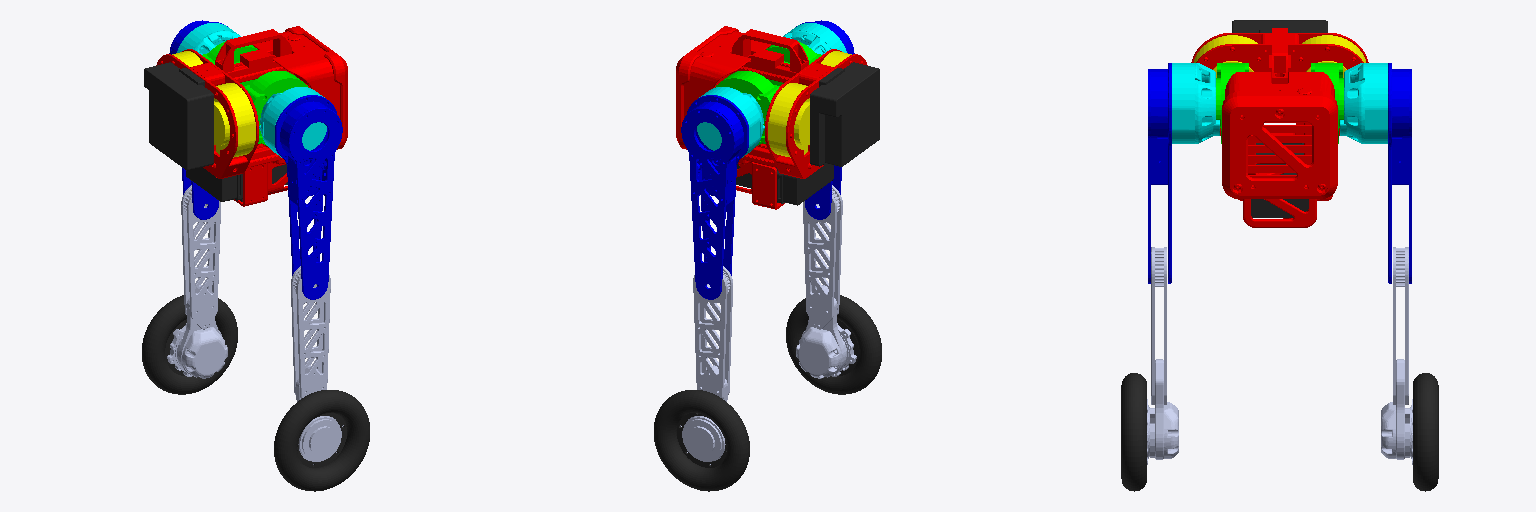
URDF robot description (bi_urdf):
<?xml version="1.0" encoding="utf-8"?>
<!-- This URDF was automatically created by SolidWorks to URDF Exporter! Originally created by [author] ([email redacted]) 
     Commit Version: 1.6.0-4-g7f85cfe  Build Version: 1.6.7995.38578
     For more information, please see http://wiki.ros.org/sw_urdf_exporter -->
<robot
  name="bi_urdf">
  <link name="dummy_link"/>  
  <joint name="dummy_joint" type="floating">
    <parent link="dummy_link"/>
    <child link="base_link"/>
    <origin xyz="0 0 0" rpy="0 0 0"/>
  </joint>
  <link
    name="base_link">
    <inertial>
      <origin
        xyz="0.01096 0.00049 -0.08447"
        rpy="0 0 0" />
      <mass
        value="1.7" />
      <inertia
        ixx="0.01982751490"
        ixy="-0.00000294181"
        ixz="-0.00095254067"
        iyy="0.02421281189"
        iyz="-0.00012740135"
        izz="0.01088542480" />
    </inertial>
    <visual>
      <origin
        xyz="0 0 0"
        rpy="0 0 0" />
      <geometry>
        <mesh
          filename="package://bi_urdf/meshes/base_link.STL" />
      </geometry>
      <material
        name="">
        <color
          rgba="1 0 0 1" />
      </material>
    </visual>
    <collision>
      <origin
        xyz="0 0 0"
        rpy="0 0 0" />
      <geometry>
        <mesh
          filename="package://bi_urdf/meshes/base_link.STL" />
      </geometry>
    </collision>
  </link>
  <link
    name="orin_Link">
    <inertial>
      <origin
        xyz="-0.02408 0.02189 0.05730"
        rpy="0 0 0" />
      <mass
        value="0.3" />
      <inertia
        ixx="0.00169870356"
        ixy="-0.00015111217"
        ixz="-0.00041542219"
        iyy="0.00147844807"
        iyz="0.00038916625"
        izz="0.00065122384" />
    </inertial>
    <visual>
      <origin
        xyz="0 0 0"
        rpy="0 0 0" />
      <geometry>
        <mesh
          filename="package://bi_urdf/meshes/orin_Link.STL" />
      </geometry>
      <material
        name="">
        <color
          rgba="0.2 0.2 0.2 1" />
      </material>
    </visual>
    <collision>
      <origin
        xyz="0 0 0"
        rpy="0 0 0" />
      <geometry>
        <mesh
          filename="package://bi_urdf/meshes/orin_Link.STL" />
      </geometry>
    </collision>
  </link>
  <joint
    name="orin"
    type="fixed">
    <origin
      xyz="-0.0918148109842786 -0.0249000000000198 -0.117725"
      rpy="0 0 0" />
    <parent
      link="base_link" />
    <child
      link="orin_Link" />
    <axis
      xyz="1 0 0" />
  </joint>
  <link
    name="bat_Link">
    <inertial>
      <origin
        xyz="0.02860 0.00224 0.02251"
        rpy="0 0 0" />
      <mass
        value="0.672" />
      <inertia
        ixx="0.00085048156"
        ixy="-0.00001152336"
        ixz="0.00043231469"
        iyy="0.00203345215"
        iyz="0.00003388068"
        izz="0.00199728964"/>
    </inertial>
    <visual>
      <origin
        xyz="0 0 0"
        rpy="0 0 0" />
      <geometry>
        <mesh
          filename="package://bi_urdf/meshes/bat_Link.STL" />
      </geometry>
      <material
        name="">
        <color
          rgba="0.2 0.2 0.2 1" />
      </material>
    </visual>
    <collision>
      <origin
        xyz="0 0 0"
        rpy="0 0 0" />
      <geometry>
        <mesh
          filename="package://bi_urdf/meshes/bat_Link.STL" />
      </geometry>
    </collision>
  </link>
  <joint
    name="bat"
    type="fixed">
    <origin
      xyz="-0.0416148109842793 0 -0.179925"
      rpy="0 0 0" />
    <parent
      link="base_link" />
    <child
      link="bat_Link" />
    <axis
      xyz="0 1 0" />
  </joint>
  <link
    name="r_Link">
    <inertial>
      <origin
        xyz="-0.02073 0.00000 0.00000"
        rpy="0 0 0" />
      <mass
        value="0.536" />
      <inertia
        ixx="0.00055434936"
        ixy="-0.00000001582"
        ixz="0.00000000503"
        iyy="0.00056855215"
        iyz="-0.00000000650"
        izz="0.00055851307"/>
    </inertial>
    <visual>
      <origin
        xyz="0 0 0"
        rpy="0 0 0" />
      <geometry>
        <mesh
          filename="package://bi_urdf/meshes/r_Link.STL" />
      </geometry>
      <material
        name="">
        <color
          rgba="1 1 0 1" />
      </material>
    </visual>
    <collision>
      <origin
        xyz="0 0 0"
        rpy="0 0 0" />
      <geometry>
        <mesh
          filename="package://bi_urdf/meshes/r_Link.STL" />
      </geometry>
    </collision>
  </link>
  <joint
    name="R_hip_fix"
    type="fixed">
    <origin
      xyz="-0.0535148109842786 -0.0562500000000304 -0.0547752717334899"
      rpy="0 0 0" />
    <parent
      link="base_link" />
    <child
      link="r_Link" />
    <axis
      xyz="1 0 0" />
  </joint>
  <link
    name="rr_Link">
    <inertial>
      <origin
        xyz="0.04914 0.00083 0.00000"
        rpy="0 0 0" />
      <mass
        value="0.573" />
      <inertia
        ixx="0.00035721873"
        ixy="0.00002268056"
        ixz="-0.00000005422"
        iyy="0.00204430103"
        iyz="-0.00000000125"
        izz="0.00181053200" />
    </inertial>
    <visual>
      <origin
        xyz="0 0 0"
        rpy="0 0 0" />
      <geometry>
        <mesh
          filename="package://bi_urdf/meshes/rr_Link.STL" />
      </geometry>
      <material
        name="">
        <color
          rgba="0 1 0 1" />
      </material>
    </visual>
    <collision>
      <origin
        xyz="0 0 0"
        rpy="0 0 0" />
      <geometry>
        <mesh
          filename="package://bi_urdf/meshes/rr_Link.STL" />
      </geometry>
    </collision>
  </link>
  <joint
    name="R_base2hip"
    type="revolute">
    <origin
      xyz="0 0 0"
      rpy="0 0 0" />
    <parent
      link="r_Link" />
    <child
      link="rr_Link" />
    <axis
      xyz="1 0 0" />
    <limit
      lower="0.0"
      upper="0.0"
      effort="0.0"
      velocity="0.0" />
  </joint>
  <link
    name="rrr_Link">
    <inertial>
      <origin
        xyz="0.00003 -0.03730 0.00006"
        rpy="0 0 0" />
      <mass
        value="0.614" />
      <inertia
        ixx="0.00131289621"
        ixy="-0.00000028386"
        ixz="-0.00000248157"
        iyy="0.00065691561"
        iyz="-0.00000428299"
        izz="0.00133828329"/>
    </inertial>
    <visual>
      <origin
        xyz="0 0 0"
        rpy="0 0 0" />
      <geometry>
        <mesh
          filename="package://bi_urdf/meshes/rrr_Link.STL" />
      </geometry>
      <material
        name="">
        <color
          rgba="0 1 1 1" />
      </material>
    </visual>
    <collision>
      <origin
        xyz="0 0 0"
        rpy="0 0 0" />
      <geometry>
        <mesh
          filename="package://bi_urdf/meshes/rrr_Link.STL" />
      </geometry>
    </collision>
  </link>
  <joint
    name="R_hip2thigh"
    type="revolute">
    <origin
      xyz="0.0532497748906444 -0.0144424855132765 0"
      rpy="0 0 0" />
    <parent
      link="rr_Link" />
    <child
      link="rrr_Link" />
    <axis
      xyz="0 1 0" />
    <limit
      lower="0.0"
      upper="1.57"
      effort="23.7"
      velocity="30.0" />
  </joint>
  <link
    name="ru_Link">
    <inertial>
      <origin
        xyz="-0.00005 -0.01317 -0.06660"
        rpy="0 0 0" />
      <mass
        value="0.509" />
      <inertia
        ixx="0.00525901222"
        ixy="-0.00000006948"
        ixz="0.00000342732"
        iyy="0.00534816854"
        iyz="0.00045156221"
        izz="0.00037880824" />
    </inertial>
    <visual>
      <origin
        xyz="0 0 0"
        rpy="0 0 0" />
      <geometry>
        <mesh
          filename="package://bi_urdf/meshes/ru_Link.STL" />
      </geometry>
      <material
        name="">
        <color
          rgba="0 0 1 1" />
      </material>
    </visual>
    <collision>
      <origin
        xyz="0 0 0"
        rpy="0 0 0" />
      <geometry>
        <mesh
          filename="package://bi_urdf/meshes/ru_Link.STL" />
      </geometry>
    </collision>
  </link>
  <joint
    name="R_thigh_fix"
    type="fixed">
    <origin
      xyz="0 -0.0577075781855466 0"
      rpy="0 0 0" />
    <parent
      link="rrr_Link" />
    <child
      link="ru_Link" />
    <axis
      xyz="0 1 0" />
  </joint>
  <link
    name="rd_Link">
    <inertial>
      <origin
        xyz="0.00002 -0.02119 -0.15275"
        rpy="0 0 0" />
      <mass
        value="0.555" />
      <inertia
        ixx="0.07912920088"
        ixy="-0.00000017460"
        ixz="-0.00000272469"
        iyy="0.07892173375"
        iyz="0.00455705638"
        izz="0.00047477095" />
    </inertial>
    <visual>
      <origin
        xyz="0 0 0"
        rpy="0 0 0" />
      <geometry>
        <mesh
          filename="package://bi_urdf/meshes/rd_Link.STL" />
      </geometry>
      <material
        name="">
        <color
          rgba="0.792156862745098 0.819607843137255 0.933333333333333 1" />
      </material>
    </visual>
    <collision>
      <origin
        xyz="0 0 0"
        rpy="0 0 0" />
      <geometry>
        <mesh
          filename="package://bi_urdf/meshes/rd_Link.STL" />
      </geometry>
    </collision>
  </link>
  <joint
    name="R_thigh2calf"
    type="revolute">
    <origin
      xyz="0 0 -0.214999999999999"
      rpy="0 0 0" />
    <parent
      link="ru_Link" />
    <child
      link="rd_Link" />
    <axis
      xyz="0 1 0" />
    <limit
      lower="-2.61"
      upper="0.0"
      effort="23.7"
      velocity="30.0" />
  </joint>
  <link
    name="rw_Link">
    <inertial>
      <origin
        xyz="0.00000 -0.01520 0.00000"
        rpy="0 0 0" />
      <mass
        value="0.0" />
      <inertia
        ixx="0.00052305084"
        ixy="0.00000000000"
        ixz="-0.00000035000"
        iyy="0.00088385874"
        iyz="-0.00000014000"
        izz="0.00052304732" />
    </inertial>
    <visual>
      <origin
        xyz="0 0 0"
        rpy="0 0 0" />
      <geometry>
        <mesh
          filename="package://bi_urdf/meshes/rw_Link.STL" />
      </geometry>
      <material
        name="">
        <color
          rgba="0.2 0.2 0.2 1" />
      </material>
    </visual>
    <collision>
      <origin
        xyz="0 0 0"
        rpy="0 0 0" />
      <geometry>
        <mesh
          filename="package://bi_urdf/meshes/rw_Link.STL" />
      </geometry>
    </collision>
  </link>
  <joint
    name="R_calf2wheel"
    type="continuous">
    <origin
      xyz="0 -0.0286806801421281 -0.215"
      rpy="0 0 0" />
    <parent
      link="rd_Link" />
    <child
      link="rw_Link" />
    <axis
      xyz="0 1 0" />
  </joint>
  <link
    name="l_Link">
    <inertial>
      <origin
        xyz="-0.02073 0.00000 0.00000"
        rpy="0 0 0" />
      <mass
        value="0.536" />
      <inertia
        ixx="0.00055434856"
        ixy="0.00000001553"
        ixz="0.00000000306"
        iyy="0.00056854986"
        iyz="0.00000001264"
        izz="0.00055851452" />
    </inertial>
    <visual>
      <origin
        xyz="0 0 0"
        rpy="0 0 0" />
      <geometry>
        <mesh
          filename="package://bi_urdf/meshes/l_Link.STL" />
      </geometry>
      <material
        name="">
        <color
          rgba="1 1 0 1" />
      </material>
    </visual>
    <collision>
      <origin
        xyz="0 0 0"
        rpy="0 0 0" />
      <geometry>
        <mesh
          filename="package://bi_urdf/meshes/l_Link.STL" />
      </geometry>
    </collision>
  </link>
  <joint
    name="L_hip_fix"
    type="fixed">
    <origin
      xyz="-0.0535148109842794 0.0562499999999701 -0.0547752717334901"
      rpy="0 0 0" />
    <parent
      link="base_link" />
    <child
      link="l_Link" />
    <axis
      xyz="1 0 0" />
  </joint>
  <link
    name="ll_Link">
    <inertial>
      <origin
        xyz="0.04914 -0.00083 0.00000"
        rpy="0 0 0" />
      <mass
        value="0.573" />
      <inertia
        ixx="0.00035724030"
        ixy="-0.00002267980"
        ixz="-0.00000007079"
        iyy="0.00204413821"
        iyz="-0.00000000009"
        izz="0.00181035052"/>
    </inertial>
    <visual>
      <origin
        xyz="0 0 0"
        rpy="0 0 0" />
      <geometry>
        <mesh
          filename="package://bi_urdf/meshes/ll_Link.STL" />
      </geometry>
      <material
        name="">
        <color
          rgba="0 1 0 1" />
      </material>
    </visual>
    <collision>
      <origin
        xyz="0 0 0"
        rpy="0 0 0" />
      <geometry>
        <mesh
          filename="package://bi_urdf/meshes/ll_Link.STL" />
      </geometry>
    </collision>
  </link>
  <joint
    name="L_base2hip"
    type="revolute">
    <origin
      xyz="0 0 0"
      rpy="0 0 0" />
    <parent
      link="l_Link" />
    <child
      link="ll_Link" />
    <axis
      xyz="1 0 0" />
    <limit
      lower="0.0"
      upper="0.0"
      effort="0.0"
      velocity="0.0" />
  </joint>
  <link
    name="lll_Link">
    <inertial>
      <origin
        xyz="0.00003 0.03730 0.00006"
        rpy="0 0 0" />
      <mass
        value="0.614" />
      <inertia
        ixx="0.00131284561"
        ixy="0.00000036570"
        ixz="-0.00000255948"
        iyy="0.00065685338"
        iyz="0.00000425719"
        izz="0.00133818598"/>
    </inertial>
    <visual>
      <origin
        xyz="0 0 0"
        rpy="0 0 0" />
      <geometry>
        <mesh
          filename="package://bi_urdf/meshes/lll_Link.STL" />
      </geometry>
      <material
        name="">
        <color
          rgba="0 1 1 1" />
      </material>
    </visual>
    <collision>
      <origin
        xyz="0 0 0"
        rpy="0 0 0" />
      <geometry>
        <mesh
          filename="package://bi_urdf/meshes/lll_Link.STL" />
      </geometry>
    </collision>
  </link>
  <joint
    name="L_hip2thigh"
    type="revolute">
    <origin
      xyz="0.0532497748906447 0.0144424855132758 0"
      rpy="0 0 0" />
    <parent
      link="ll_Link" />
    <child
      link="lll_Link" />
    <axis
      xyz="0 1 0" />
    <limit
      lower="0.0"
      upper="1.57"
      effort="23.7"
      velocity="30.0" />
  </joint>
  <link
    name="lu_Link">
    <inertial>
      <origin
        xyz="-0.00005 0.01317 -0.06659"
        rpy="0 0 0" />
      <mass
        value="0.509" />
      <inertia
        ixx="0.00525893053"
        ixy="0.00000006649"
        ixz="0.00000343554"
        iyy="0.00534809715"
        iyz="-0.00045155031"
        izz="0.00037881411" />
    </inertial>
    <visual>
      <origin
        xyz="0 0 0"
        rpy="0 0 0" />
      <geometry>
        <mesh
          filename="package://bi_urdf/meshes/lu_Link.STL" />
      </geometry>
      <material
        name="">
        <color
          rgba="0 0 1 1" />
      </material>
    </visual>
    <collision>
      <origin
        xyz="0 0 0"
        rpy="0 0 0" />
      <geometry>
        <mesh
          filename="package://bi_urdf/meshes/lu_Link.STL" />
      </geometry>
    </collision>
  </link>
  <joint
    name="L_thigh_fix"
    type="fixed">
    <origin
      xyz="0 0.0577075781855487 0"
      rpy="0 0 0" />
    <parent
      link="lll_Link" />
    <child
      link="lu_Link" />
    <axis
      xyz="0 1 0" />
  </joint>
  <link
    name="ld_Link">
    <inertial>
      <origin
        xyz="0.00002 0.02119 -0.15276"
        rpy="0 0 0" />
      <mass
        value="0.555" />
      <inertia
        ixx="0.01701980935"
        ixy="0.00000017682"
        ixz="-0.00000009639"
        iyy="0.01681236184"
        iyz="-0.00202828700"
        izz="0.00047476800" />
    </inertial>
    <visual>
      <origin
        xyz="0 0 0"
        rpy="0 0 0" />
      <geometry>
        <mesh
          filename="package://bi_urdf/meshes/ld_Link.STL" />
      </geometry>
      <material
        name="">
        <color
          rgba="0.792156862745098 0.819607843137255 0.933333333333333 1" />
      </material>
    </visual>
    <collision>
      <origin
        xyz="0 0 0"
        rpy="0 0 0" />
      <geometry>
        <mesh
          filename="package://bi_urdf/meshes/ld_Link.STL" />
      </geometry>
    </collision>
  </link>
  <joint
    name="L_thigh2calf"
    type="revolute">
    <origin
      xyz="0 0 -0.215"
      rpy="0 0 0" />
    <parent
      link="lu_Link" />
    <child
      link="ld_Link" />
    <axis
      xyz="0 1 0" />
    <limit
      lower="-2.61"
      upper="0.0"
      effort="23.7"
      velocity="30.0" />
  </joint>
  <link
    name="lw_Link">
    <inertial>
      <origin
        xyz="0.00000 0.01520 0.00000"
        rpy="0 0 0" />
      <mass
        value="0.0" />
      <inertia
        ixx="0.00052305061"
        ixy="0.00000000000"
        ixz="0.00000000066"
        iyy="0.00088385420"
        iyz="0.00000000014"
        izz="0.00052304301" />
    </inertial>
    <visual>
      <origin
        xyz="0 0 0"
        rpy="0 0 0" />
      <geometry>
        <mesh
          filename="package://bi_urdf/meshes/lw_Link.STL" />
      </geometry>
      <material
        name="">
        <color
          rgba="0.2 0.2 0.2 1" />
      </material>
    </visual>
    <collision>
      <origin
        xyz="0 0 0"
        rpy="0 0 0" />
      <geometry>
        <mesh
          filename="package://bi_urdf/meshes/lw_Link.STL" />
      </geometry>
    </collision>
  </link>
  <joint
    name="L_calf2wheel"
    type="continuous">
    <origin
      xyz="0 0.0286806801421289 -0.215"
      rpy="0 0 0" />
    <parent
      link="ld_Link" />
    <child
      link="lw_Link" />
    <axis
      xyz="0 1 0" />
  </joint>
</robot>

--- What the picture shows (computed from the rendered views, not written in the file) ---
The picture shows the robot from 3 angles, left to right: view 1: azimuth 30°, elevation 25°; view 2: azimuth 150°, elevation 25°; view 3: azimuth 270°, elevation 25°; orthographic projection.
Robot: bi_urdf — 16 links, 15 joints (6 revolute, 2 continuous, 6 fixed, 1 floating); root link dummy_link; default pose: all joints at 0.
Links seen in each view (by area): view 1: base_link, ru_Link, ld_Link, rw_Link, orin_Link, rd_Link, lw_Link, r_Link, rrr_Link, bat_Link, rr_Link, lu_Link (+1 smaller); view 2: base_link, lu_Link, rd_Link, orin_Link, lw_Link, ld_Link, rw_Link, l_Link, lll_Link, bat_Link, ll_Link, ru_Link (+1 smaller); view 3: base_link, rd_Link, ld_Link, ru_Link, lu_Link, rrr_Link, lll_Link, rw_Link, lw_Link, orin_Link, bat_Link, rr_Link (+3 smaller).
Link boxes in pixels (x1,y1,x2,y2): base_link: [156, 26, 347, 206]; ru_Link: [275, 95, 342, 299]; ld_Link: [167, 185, 227, 378]; rw_Link: [274, 390, 369, 491]; orin_Link: [144, 62, 213, 170]; rd_Link: [291, 266, 343, 464]; lw_Link: [142, 295, 237, 394]; r_Link: [214, 83, 255, 157]; rrr_Link: [259, 87, 326, 157]; bat_Link: [186, 164, 287, 201]; rr_Link: [244, 71, 308, 145]; lu_Link: [169, 20, 227, 219]; base_link: [676, 26, 867, 209]; lu_Link: [681, 95, 748, 299]; rd_Link: [796, 185, 856, 378]; orin_Link: [810, 62, 879, 166]; lw_Link: [654, 390, 749, 491]; ld_Link: [680, 266, 732, 464]; rw_Link: [786, 295, 881, 394]; l_Link: [768, 83, 809, 157]; lll_Link: [697, 87, 764, 157]; bat_Link: [736, 164, 833, 205]; ll_Link: [715, 71, 779, 145]; ru_Link: [796, 20, 854, 219]; base_link: [1191, 28, 1368, 227]; rd_Link: [1147, 247, 1178, 464]; ld_Link: [1381, 247, 1412, 464]; ru_Link: [1148, 63, 1171, 283]; lu_Link: [1388, 63, 1411, 283]; rrr_Link: [1172, 63, 1219, 143]; lll_Link: [1340, 63, 1387, 143]; rw_Link: [1121, 373, 1146, 491]; lw_Link: [1413, 373, 1438, 491]; orin_Link: [1232, 20, 1327, 32]; bat_Link: [1251, 143, 1308, 217]; rr_Link: [1216, 63, 1248, 143].
Size in the robot's own frame: 0.2408 by 0.3756 by 0.5813 metres.
15 mesh visuals loaded from 15 distinct referenced files (15 binary STL).
